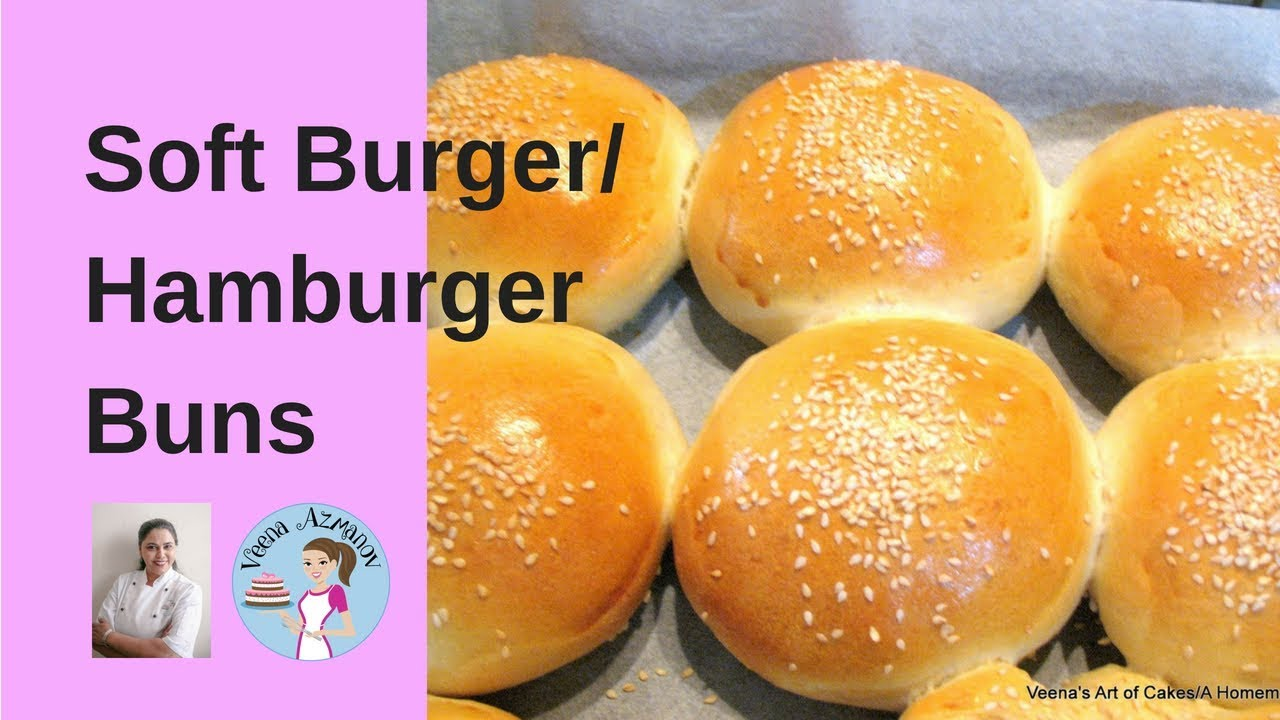hamburger_buns: (645, 60, 1280, 643)
